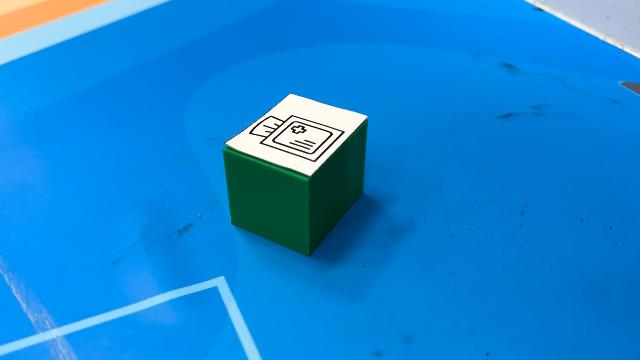napkin: (222, 91, 371, 257)
